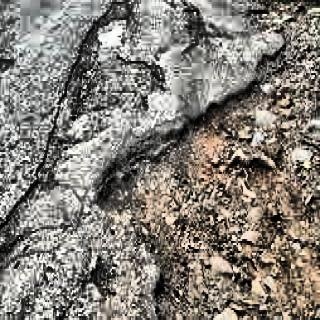pothole: (92, 0, 318, 320), (91, 27, 92, 27)
